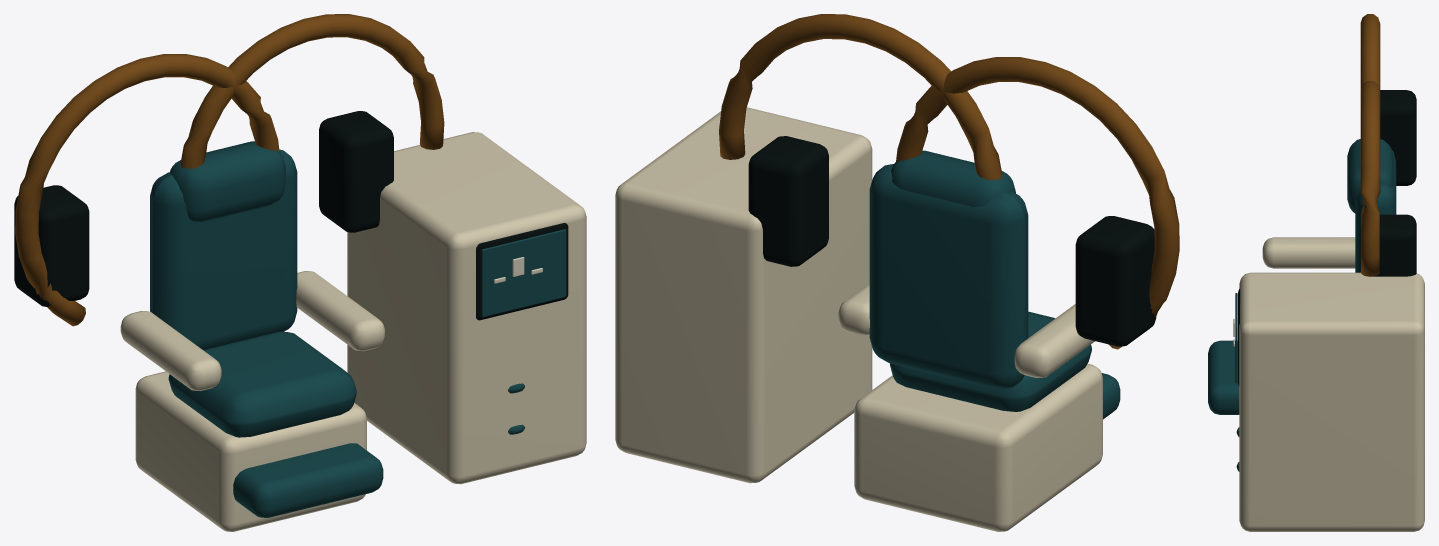
The model's file is echo.glb.
3 renders of one model, left to right at view 1: azimuth 30°, elevation 25°; view 2: azimuth 150°, elevation 25°; view 3: azimuth 270°, elevation 25°, orthographic. The views are drawn at different scales.
Visible parts, largest first — view 1: Apparatus; view 2: Apparatus; view 3: Apparatus.
Part boxes in pixels (x1,y1,x2,y2): Apparatus: (14,14,586,531); Apparatus: (615,14,1179,531); Apparatus: (1208,14,1424,531).
Size of the model in its own units: 1.76 by 1.46 by 0.795.
